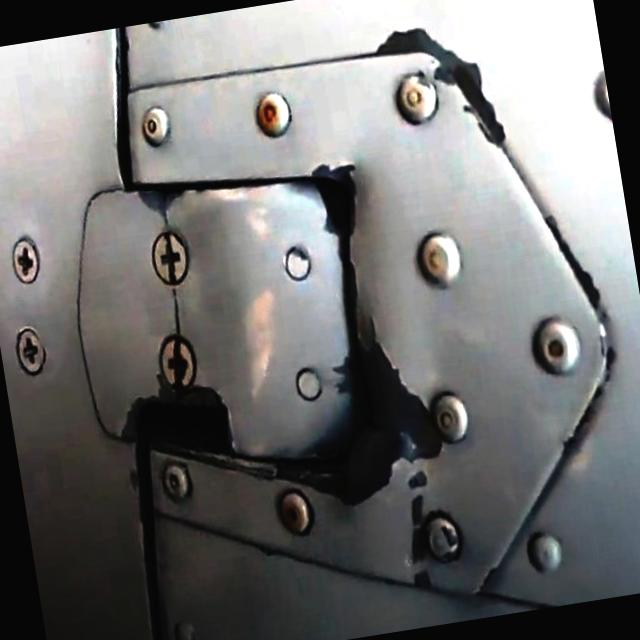crack: (164, 286, 187, 340)
